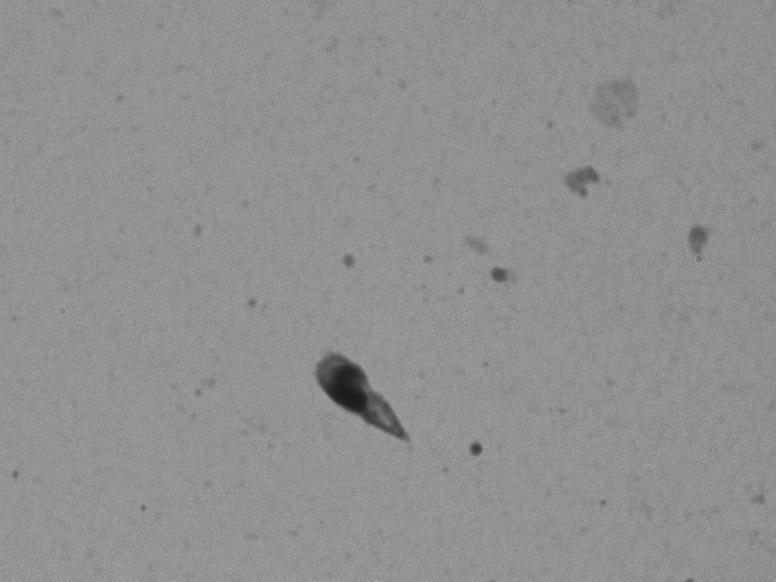Abnormal: (275, 343, 442, 483)
